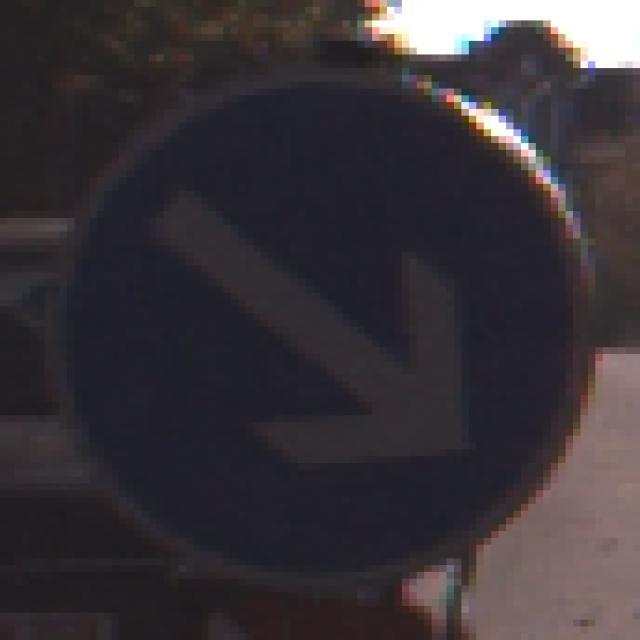compulsary keep right: (40, 64, 614, 599)
